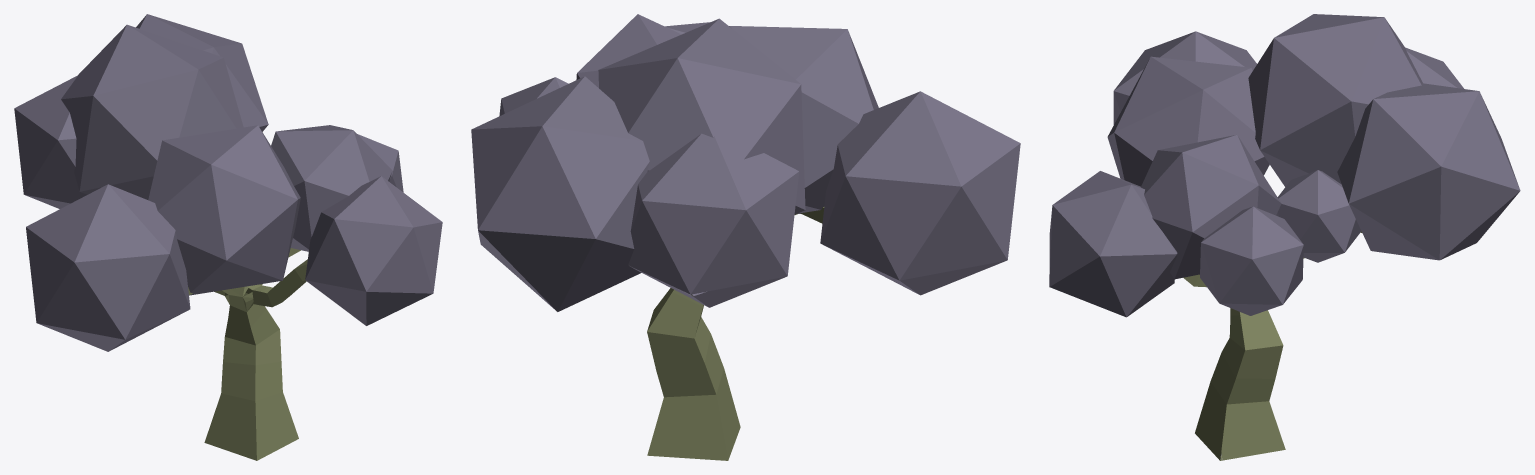
File: NormalTreeColor3.fbx
The picture shows the model from 3 angles, left to right: view 1: azimuth 30°, elevation 25°; view 2: azimuth 150°, elevation 25°; view 3: azimuth 270°, elevation 25°; orthographic projection. The views are drawn at different scales.
Parts seen in each view (by area): view 1: Cube.002; view 2: Cube.002; view 3: Cube.002.
Part boxes in pixels (x1,y1,x2,y2): Cube.002: (14, 14, 442, 460); Cube.002: (471, 14, 1020, 460); Cube.002: (1049, 14, 1520, 460).
Size of the model in its own units: 691 by 644 by 693.
